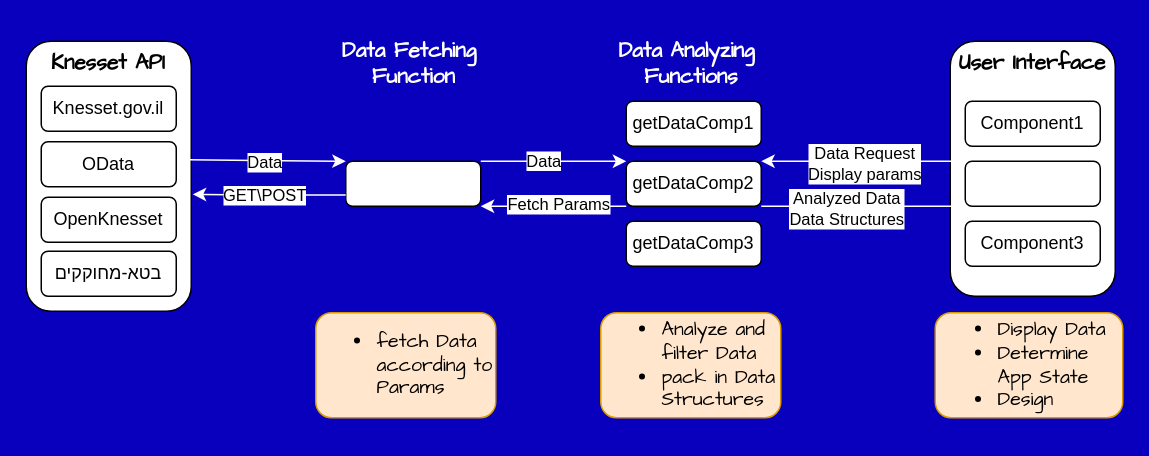
This 1149x456 diagram has some shape labels left out. The centre of each missing label's shape, as x and y in pixels:
"Component2" belongs at point 1032,183.
"fetchData" belongs at point 412,183.
